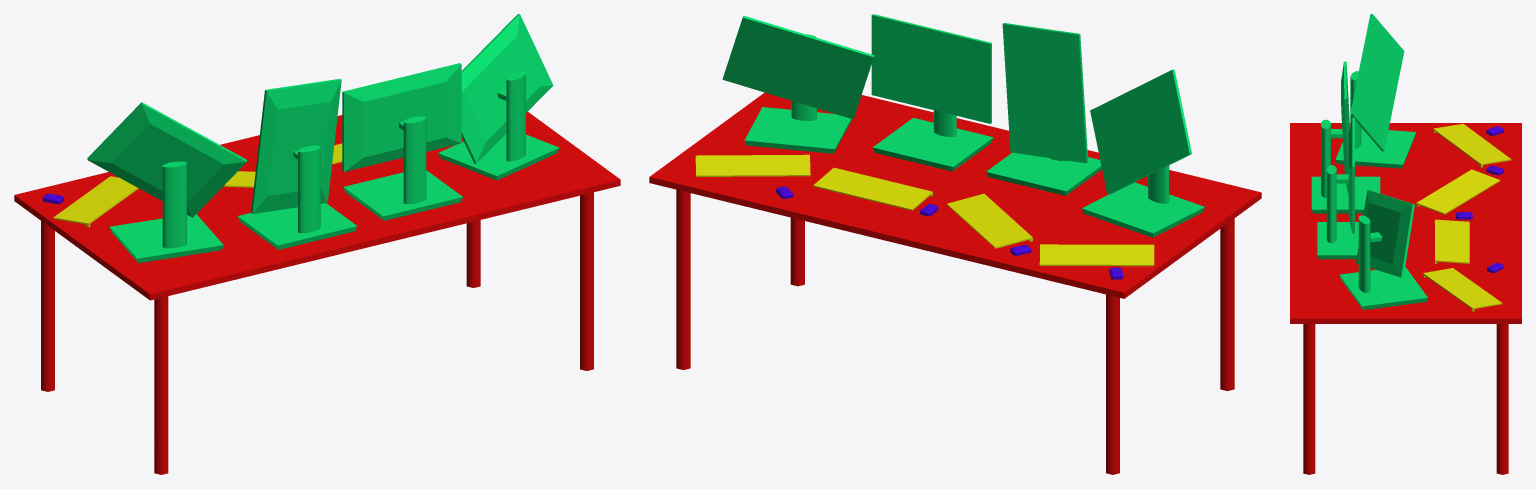
Rendered from muse_TafelComputers_exp_001.fbx.
3 renders of one model, left to right at view 1: azimuth 30°, elevation 25°; view 2: azimuth 150°, elevation 25°; view 3: azimuth 270°, elevation 25°, orthographic. The views are drawn at different scales.
Visible parts, largest first — view 1: pCube4 (×4), pCube1, pCube2 (×4), pCylinder5 (×4), pCylinder1, pCylinder3, pCylinder2, pCube5, pCylinder4; view 2: pCube1, pCube4 (×4), pCube2 (×4), pCube5 (×4), pCylinder4, pCylinder1, pCylinder2, pCylinder3, pCylinder5; view 3: pCube1, pCube4 (×4), pCube2 (×4), pCube5 (×4), pCylinder5 (×4), pCylinder3, pCylinder4.
Part boxes in pixels (x1=…): pCube4 (×4): x1=87, y1=14, x2=553, y2=217; pCube1: x1=14, y1=112, x2=620, y2=300; pCube2 (×4): x1=109, y1=134, x2=559, y2=262; pCylinder5 (×4): x1=162, y1=72, x2=525, y2=248; pCylinder1: x1=154, y1=296, x2=168, y2=474; pCylinder3: x1=580, y1=192, x2=593, y2=370; pCylinder2: x1=41, y1=221, x2=54, y2=391; pCube5: x1=53, y1=176, x2=138, y2=224; pCylinder4: x1=466, y1=220, x2=480, y2=287; pCube1: x1=649, y1=92, x2=1261, y2=298; pCube4 (×4): x1=722, y1=14, x2=1191, y2=194; pCube2 (×4): x1=744, y1=107, x2=1204, y2=237; pCube5 (×4): x1=695, y1=154, x2=1154, y2=266; pCylinder4: x1=676, y1=189, x2=690, y2=369; pCylinder1: x1=1220, y1=218, x2=1234, y2=390; pCylinder2: x1=1106, y1=294, x2=1119, y2=474; pCylinder3: x1=790, y1=217, x2=804, y2=286; pCylinder5: x1=1148, y1=165, x2=1169, y2=203; pCube1: x1=1290, y1=123, x2=1521, y2=323; pCube4 (×4): x1=1341, y1=14, x2=1414, y2=277; pCube2 (×4): x1=1311, y1=127, x2=1427, y2=309; pCube5 (×4): x1=1416, y1=123, x2=1511, y2=309; pCylinder5 (×4): x1=1321, y1=71, x2=1370, y2=293; pCylinder3: x1=1303, y1=324, x2=1315, y2=474; pCylinder4: x1=1496, y1=324, x2=1508, y2=474.
Bounding box in the file's own units: 4 × 2.75 × 2.
